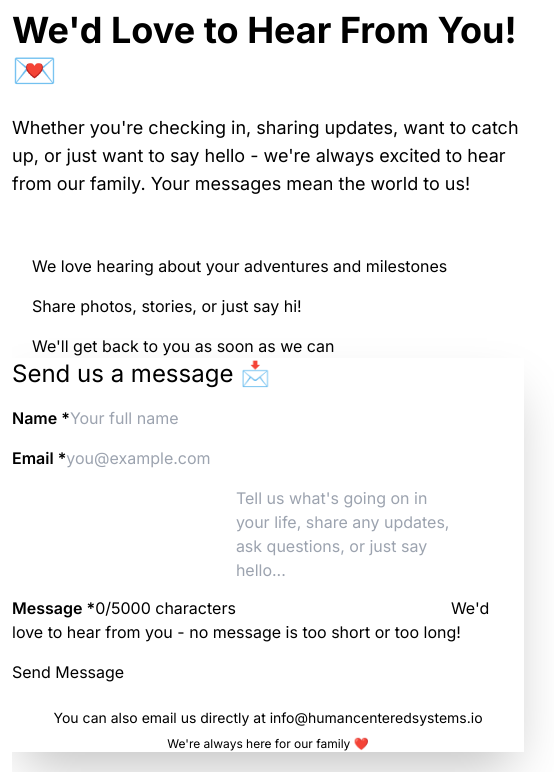
Test: Contact Page › should handle form submission errors
This screenshot has width=554, height=772.
Fill out form
Type "John Doe" into the field labelled "Name *".
click(187, 418); type("John Doe")  # box [70, 406, 304, 430]
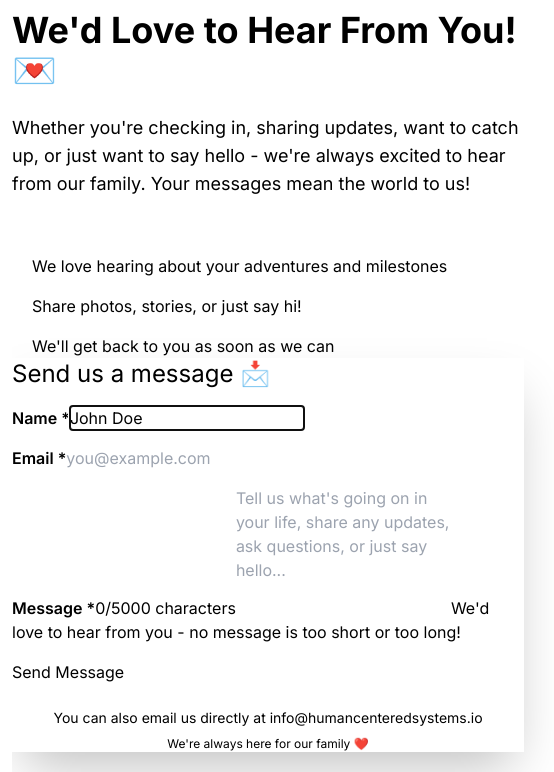
Type "john@example.com" into the field labelled "Email *".
click(183, 458); type("john@example.com")  # box [66, 446, 300, 470]
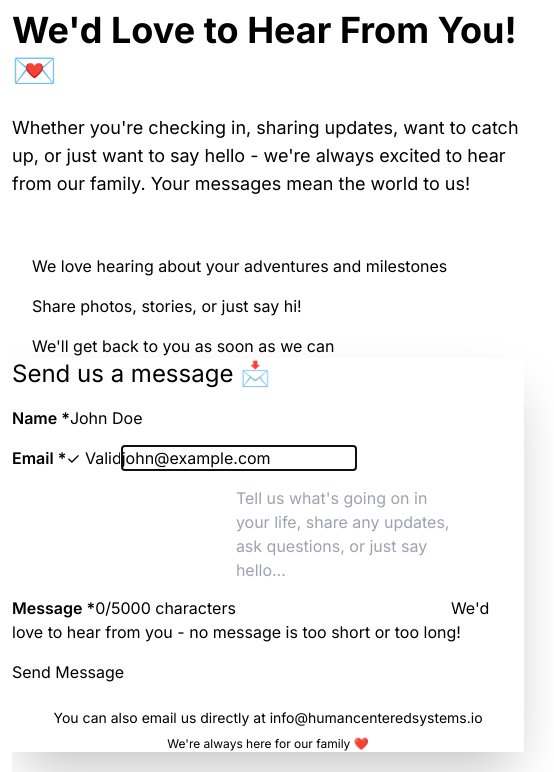
Type "This is my test message with enough characters" into the text box labelled "Message *0/5000 characters".
click(343, 550); type("This is my test message with enough characters")  # box [236, 486, 451, 614]
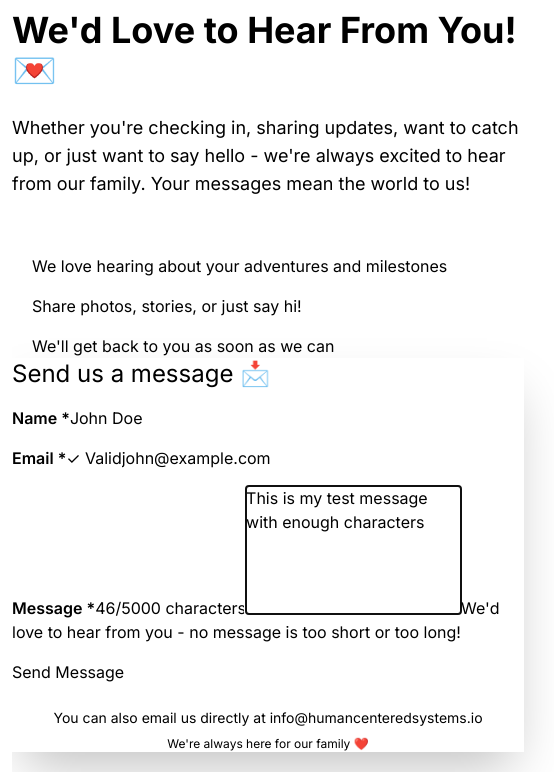
Submit form
Click the button "Send Message".
click(68, 672)  # box [12, 660, 124, 684]
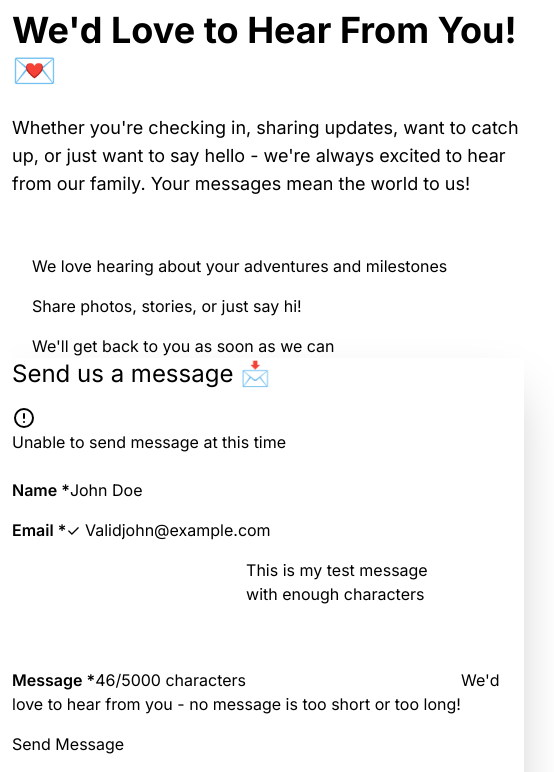
Now the text "Unable to send message at this time" is shown, box [12, 432, 286, 452]
